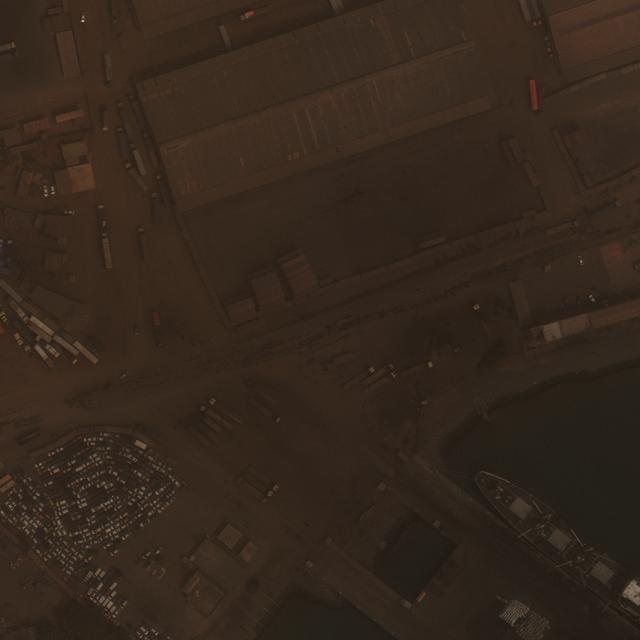Cargo: (473, 471, 640, 623)
